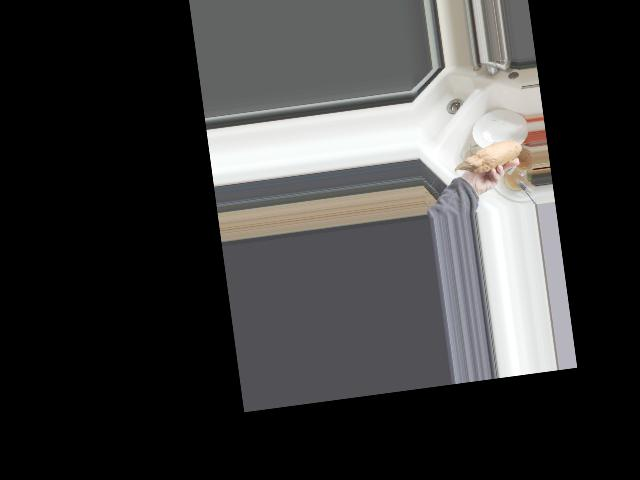sweet_potato: (450, 137, 523, 176)
